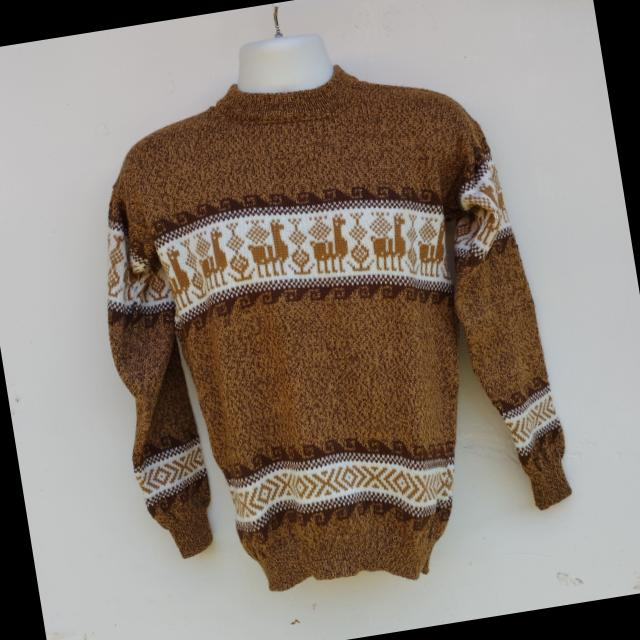Chompa: (66, 2, 584, 620)
